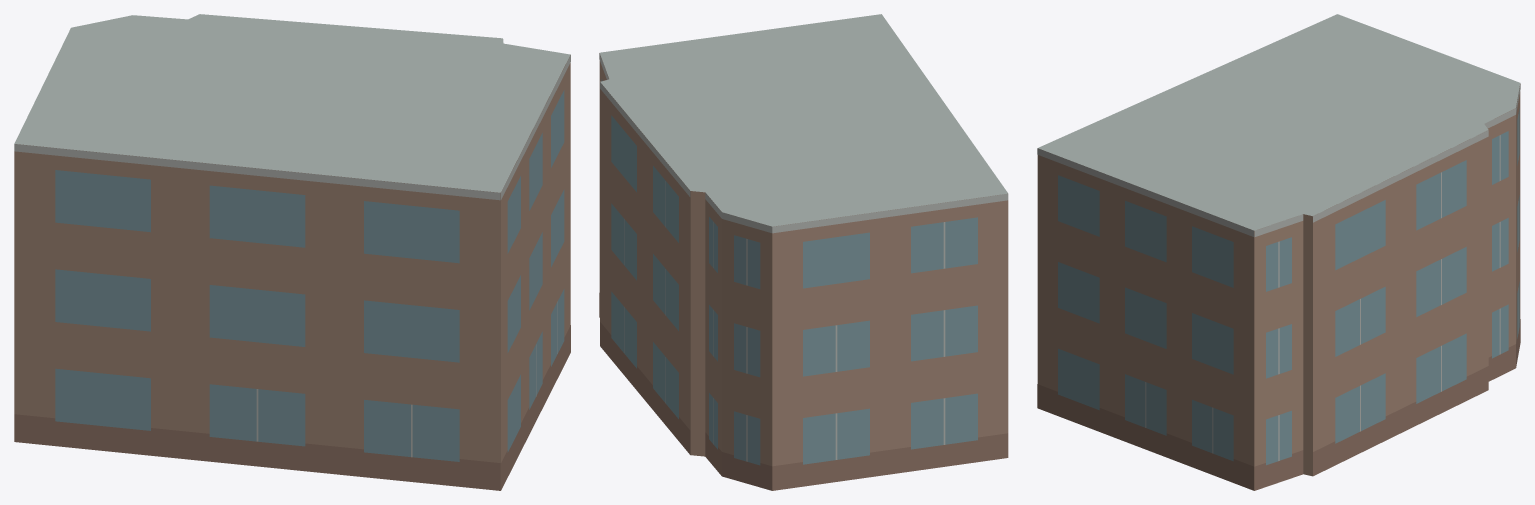
The model's file is survey-upis-32988653.glb.
The picture shows the model from 3 angles, left to right: view 1: azimuth 30°, elevation 25°; view 2: azimuth 150°, elevation 25°; view 3: azimuth 270°, elevation 25°; orthographic projection. The views are drawn at different scales.
Visible parts, largest first — view 1: survey-upis-32988653.tmp; view 2: survey-upis-32988653.tmp; view 3: survey-upis-32988653.tmp.
Boxes of the visible parts, x1,y1,x2,y2 form: survey-upis-32988653.tmp: (14, 14, 570, 490); survey-upis-32988653.tmp: (599, 14, 1008, 490); survey-upis-32988653.tmp: (1037, 14, 1520, 490).
Size of the model in its own units: 17.16 by 9.6 by 16.16.
